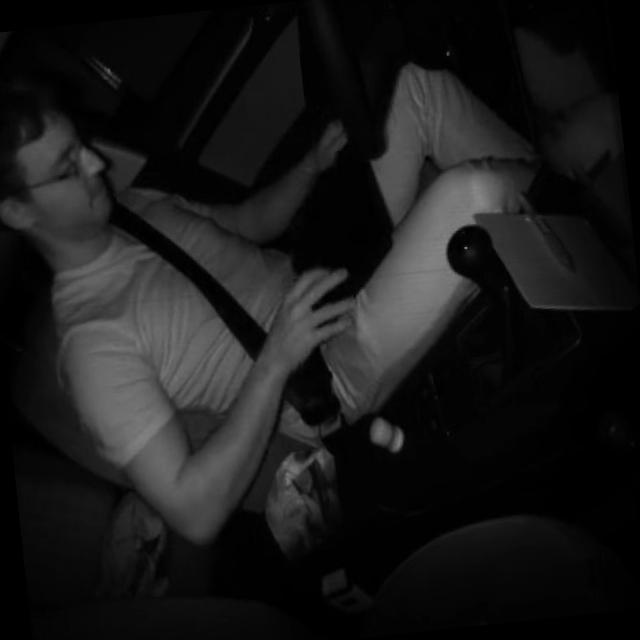pen: (514, 176, 580, 284)
